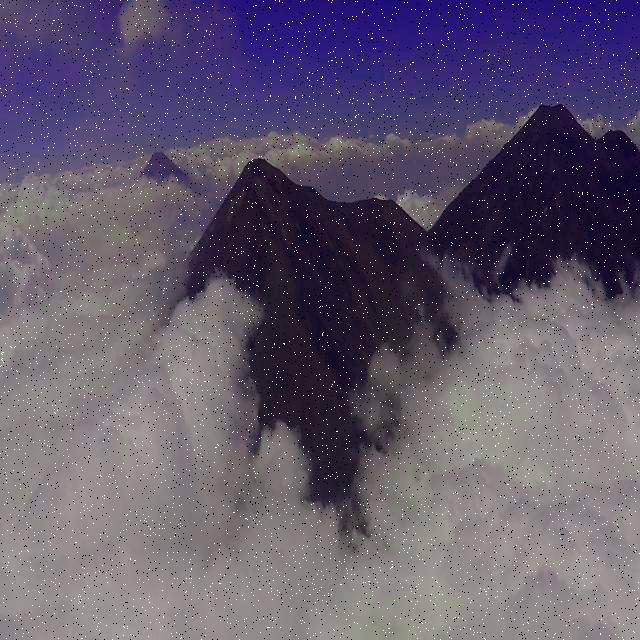Plume: (114, 1, 186, 58)
Summit: (214, 153, 322, 224)
